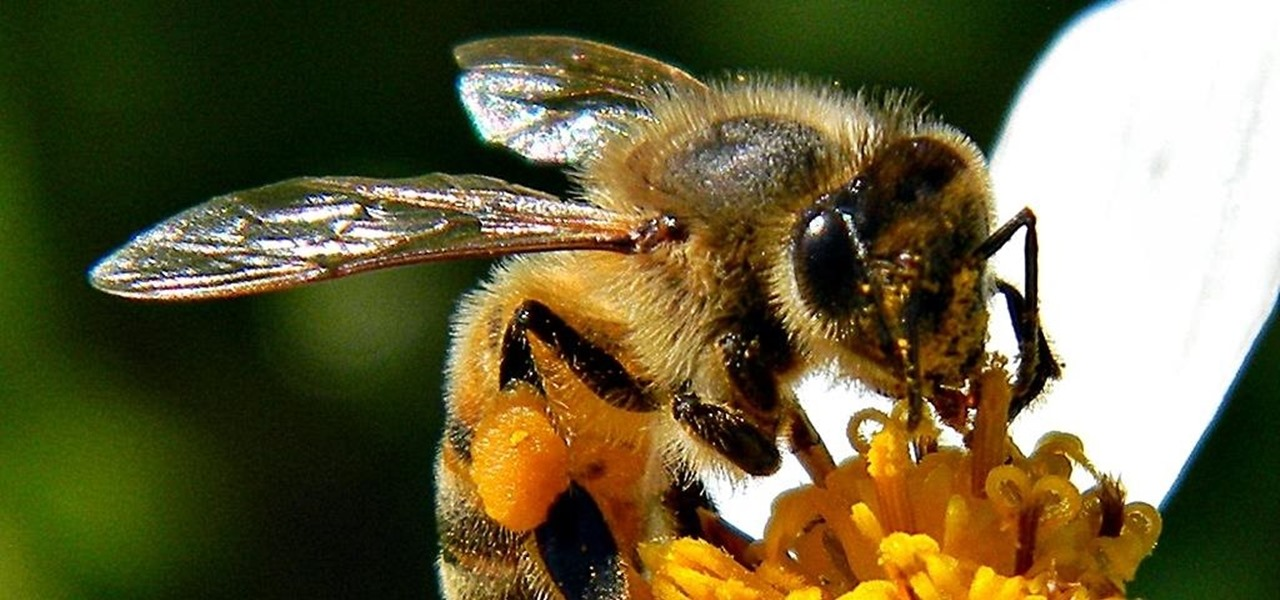bee: (388, 36, 1045, 596)
